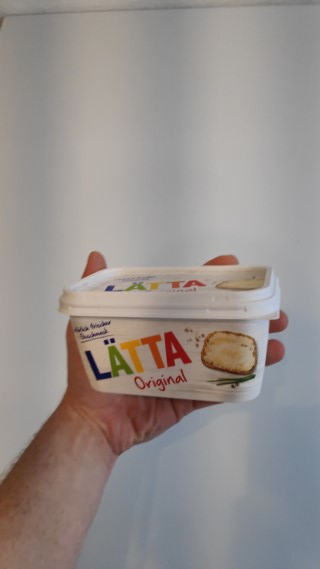laetta: (56, 263, 283, 403)
